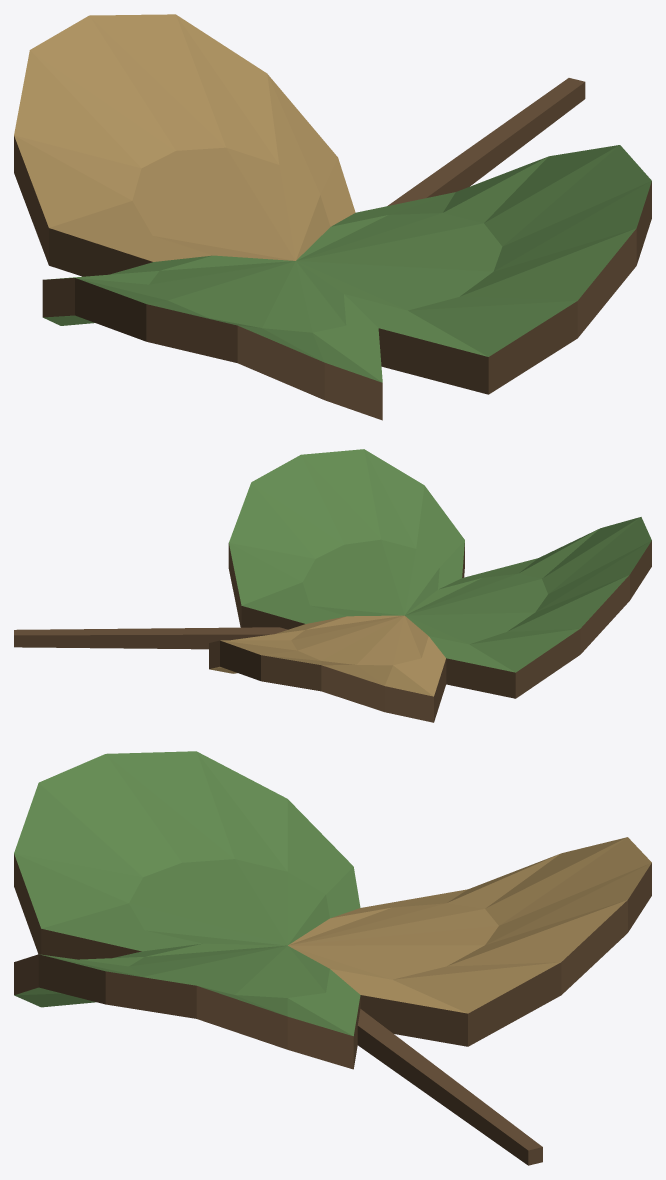
File: clover_sprig.glb
3 views of the same model, one above another, from view 1: azimuth 30°, elevation 25°; view 2: azimuth 150°, elevation 25°; view 3: azimuth 270°, elevation 25° (orthographic). The views are drawn at different scales.
Visible parts, largest first — view 1: clover_sprig; view 2: clover_sprig; view 3: clover_sprig.
Boxes of the visible parts, x1,y1,x2,y2 form: clover_sprig: (14, 14, 651, 420); clover_sprig: (14, 449, 651, 722); clover_sprig: (14, 751, 651, 1165).
Size of the model in its own units: 0.06 by 0.0114 by 0.0538.
